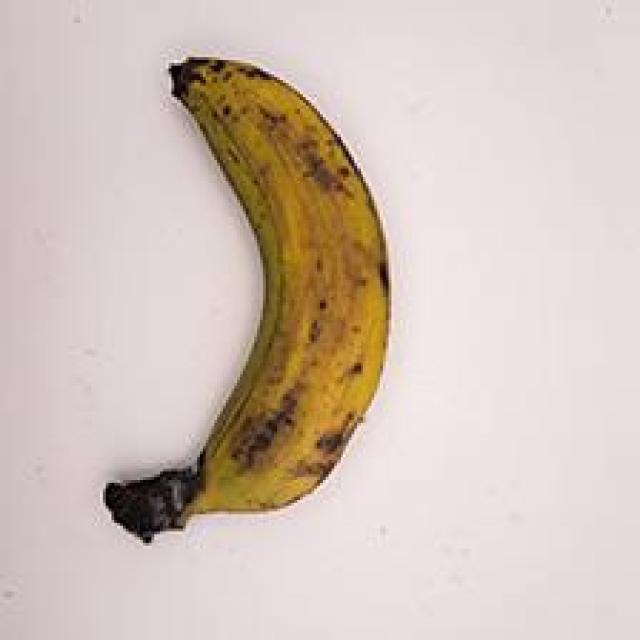Overripe: (79, 52, 414, 552)
